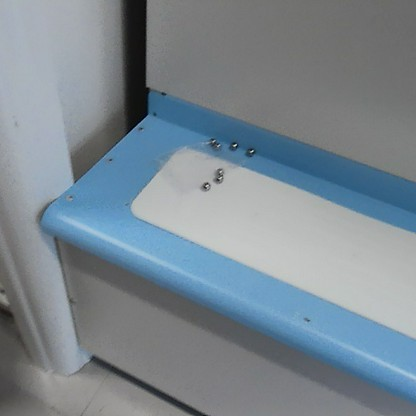ironball: (229, 139, 242, 152), (246, 145, 257, 157), (211, 140, 222, 152), (212, 172, 222, 184), (200, 179, 212, 189), (215, 164, 225, 175), (208, 133, 216, 143)
